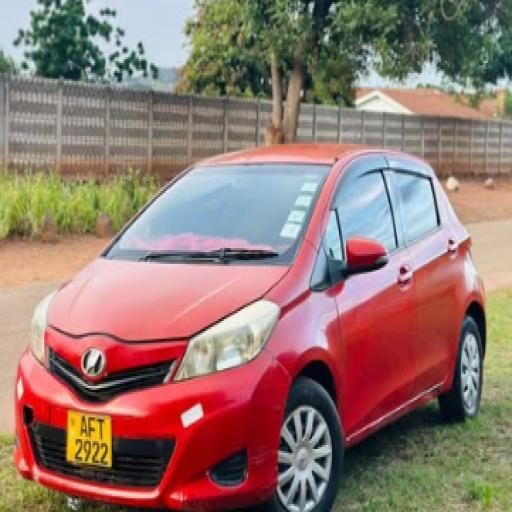number-plates: (66, 410, 111, 466)
